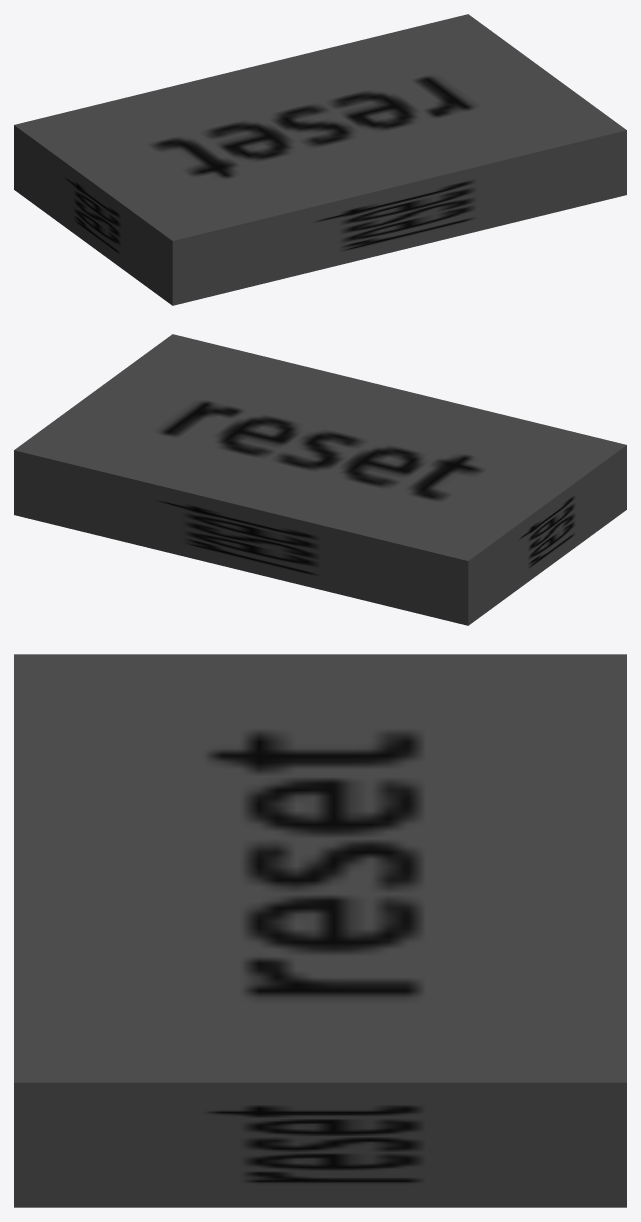
Rendered from reset.glb.
3 views of the same model, one above another, from view 1: azimuth 30°, elevation 25°; view 2: azimuth 150°, elevation 25°; view 3: azimuth 270°, elevation 25° (orthographic). The views are drawn at different scales.
Visible parts, largest first — view 1: Cube; view 2: Cube; view 3: Cube.
Part boxes in pixels (x1,y1,x2,y2): Cube: [14, 14, 626, 305]; Cube: [14, 334, 626, 625]; Cube: [14, 654, 626, 1207].
Bounding box in the file's own units: 3.31 × 0.4506 × 2.
1 material, 1 textured.
